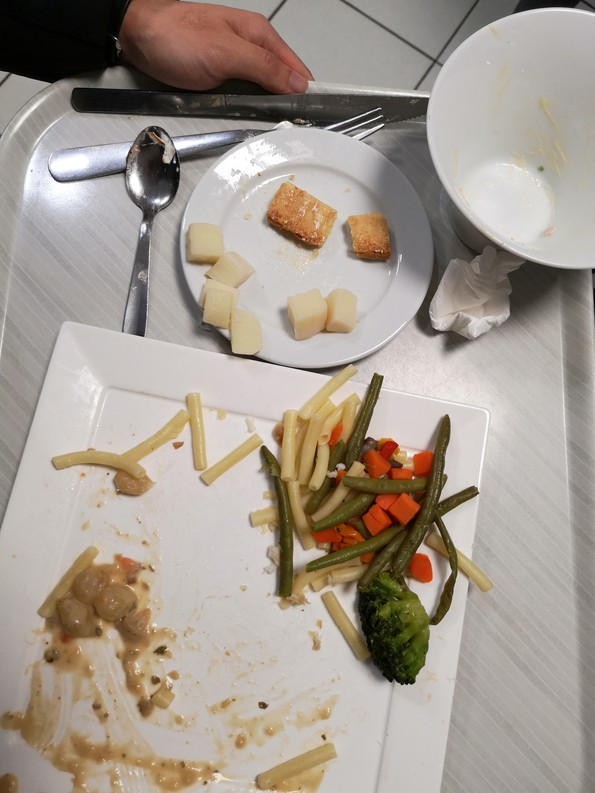cutlery: (59, 52, 465, 182), (131, 122, 174, 355)
orga: (33, 534, 165, 676), (351, 384, 456, 544), (255, 485, 368, 611), (185, 221, 281, 361), (271, 179, 396, 269), (373, 539, 444, 690), (270, 391, 343, 478), (290, 279, 366, 349)
trash: (429, 229, 525, 347)
